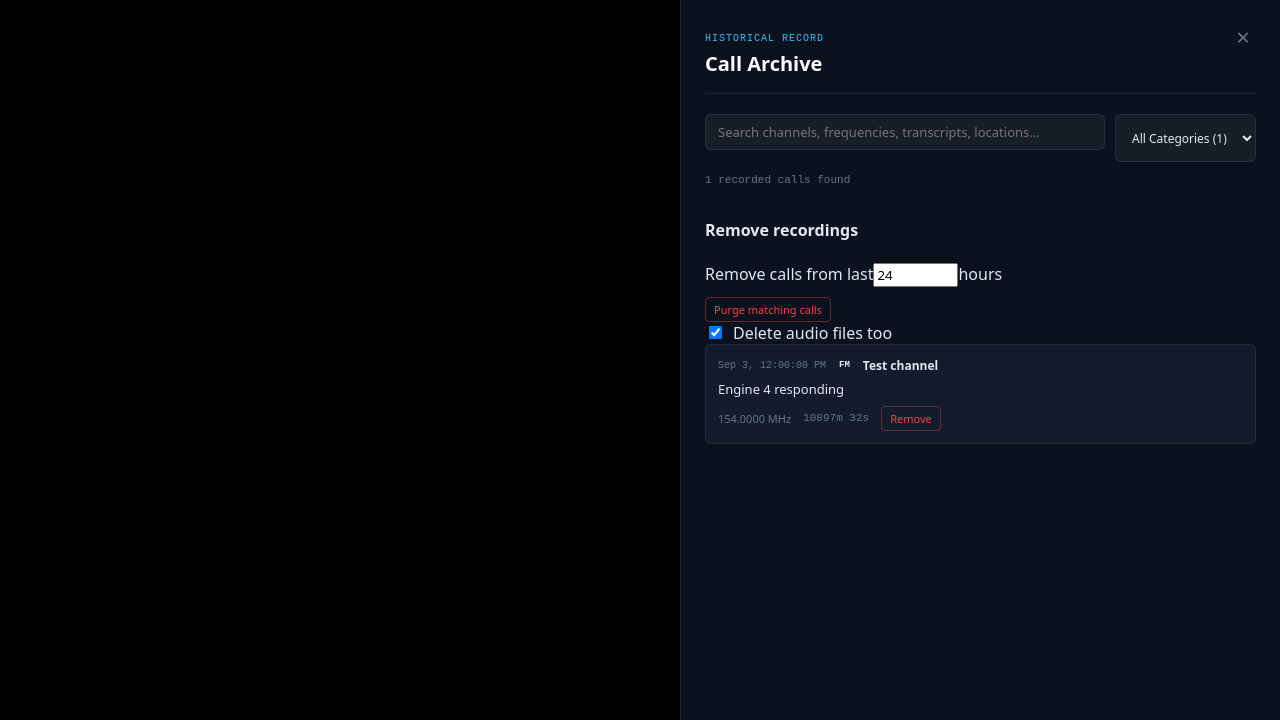
Scenario: finds recordings by MHz or Hz and trims search whitespace
The width and height of the screenshot is (1280, 720).
Type " 154.0000 " into the field named "Search recordings" at (905, 132), box [705, 114, 1105, 150]
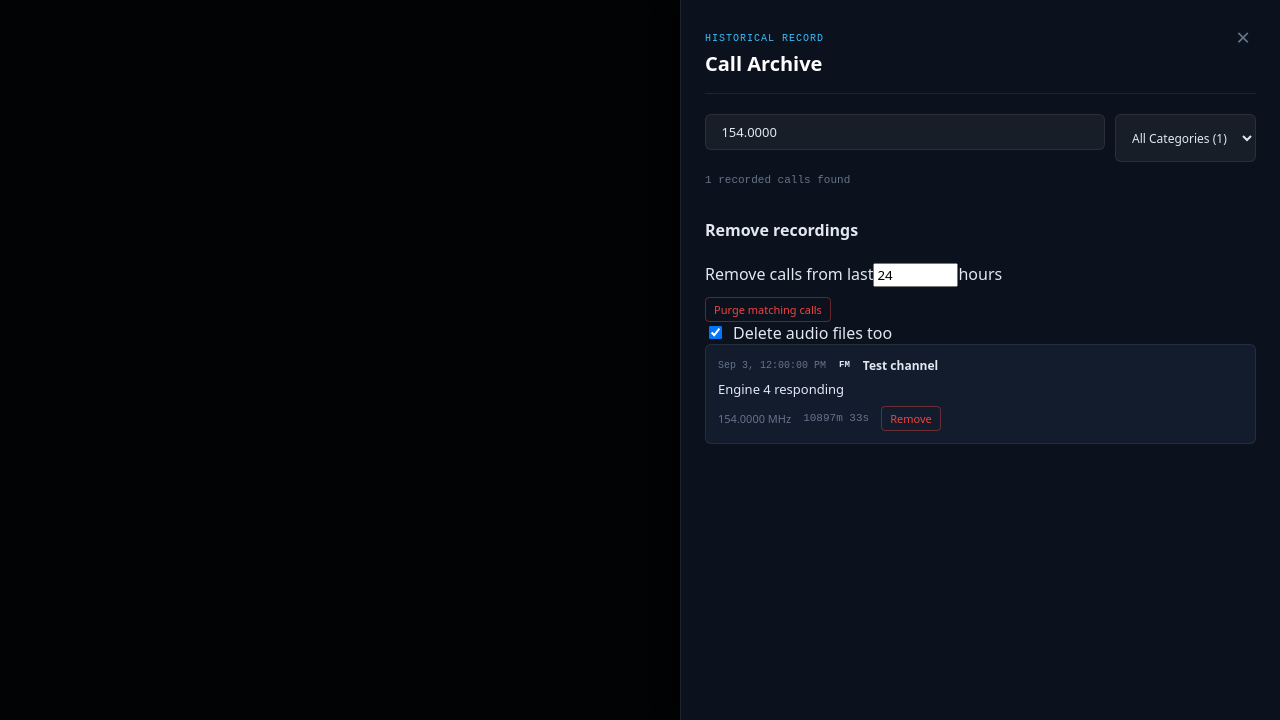
Expected: the text "Test channel" is shown, [863, 356, 938, 374]
Replace the text in the field named "Search recordings" with "154000000" at (905, 132), box [705, 114, 1105, 150]
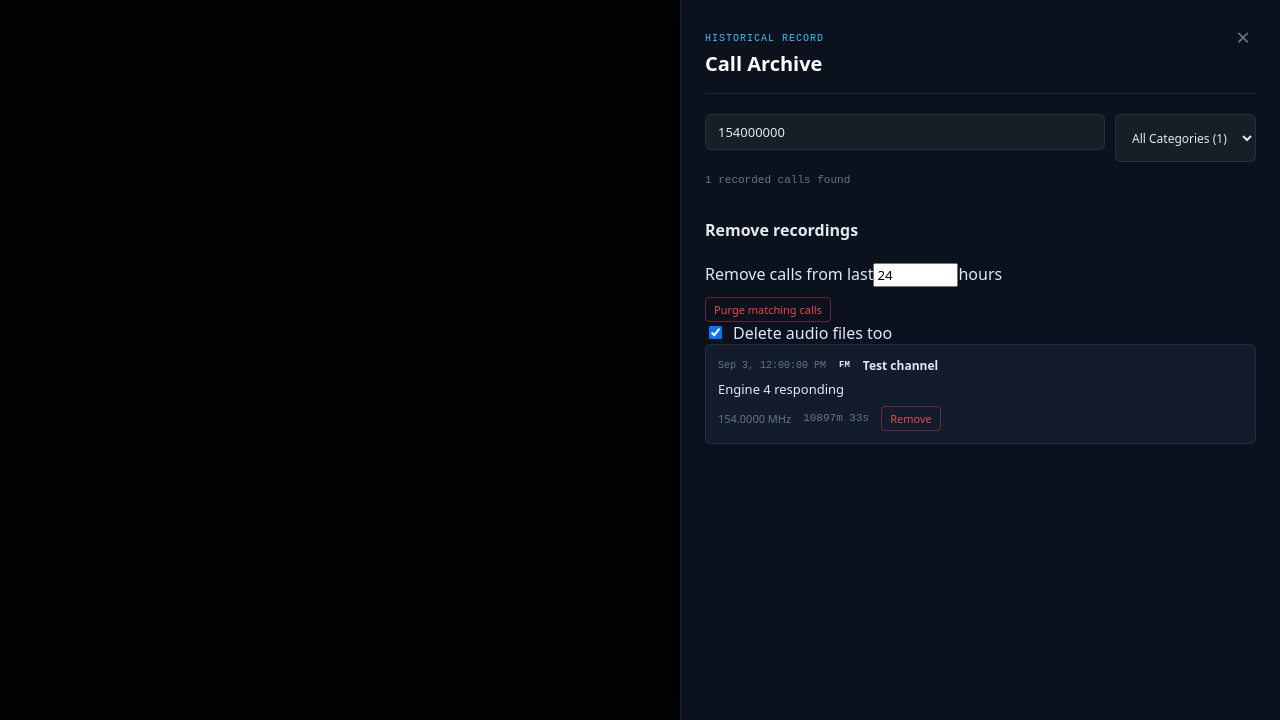
Expected: the text "Test channel" is shown, [863, 356, 938, 374]
Replace the text in the field named "Search recordings" with " test channel " at (905, 132), box [705, 114, 1105, 150]
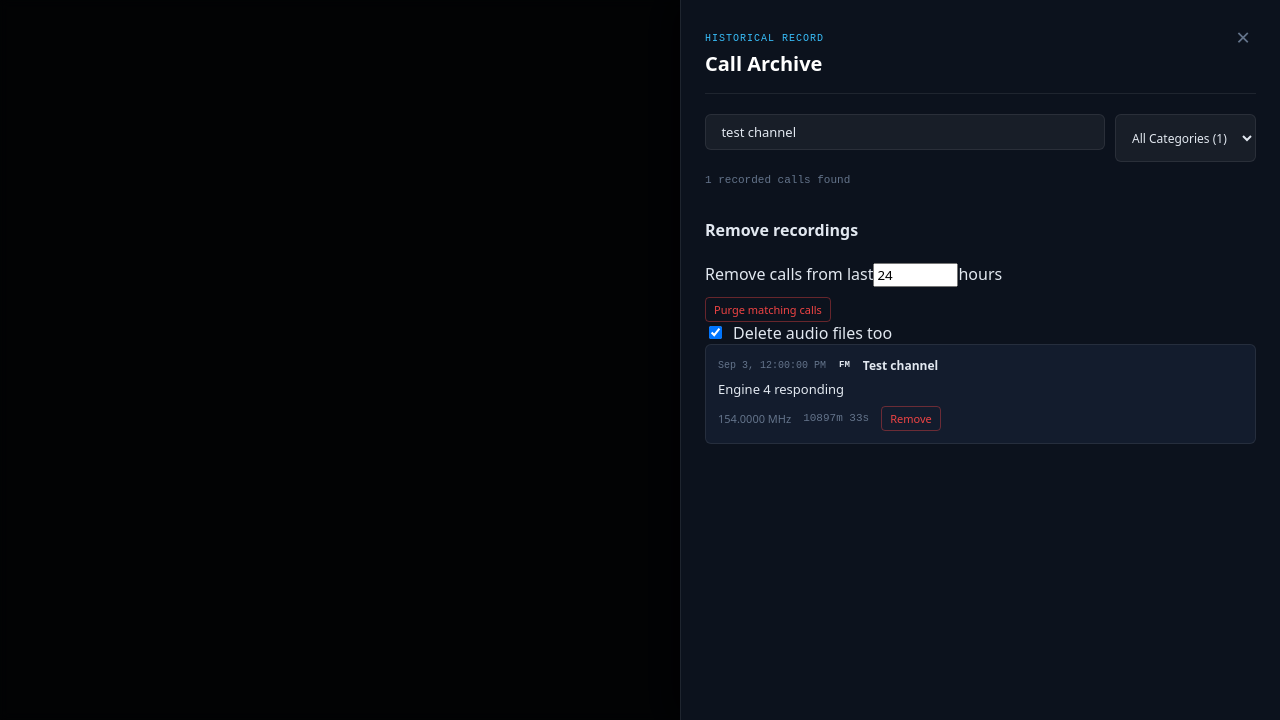
Expected: the text "Test channel" is shown, [863, 356, 938, 374]
Replace the text in the field named "Search recordings" with "155.5000" at (905, 132), box [705, 114, 1105, 150]
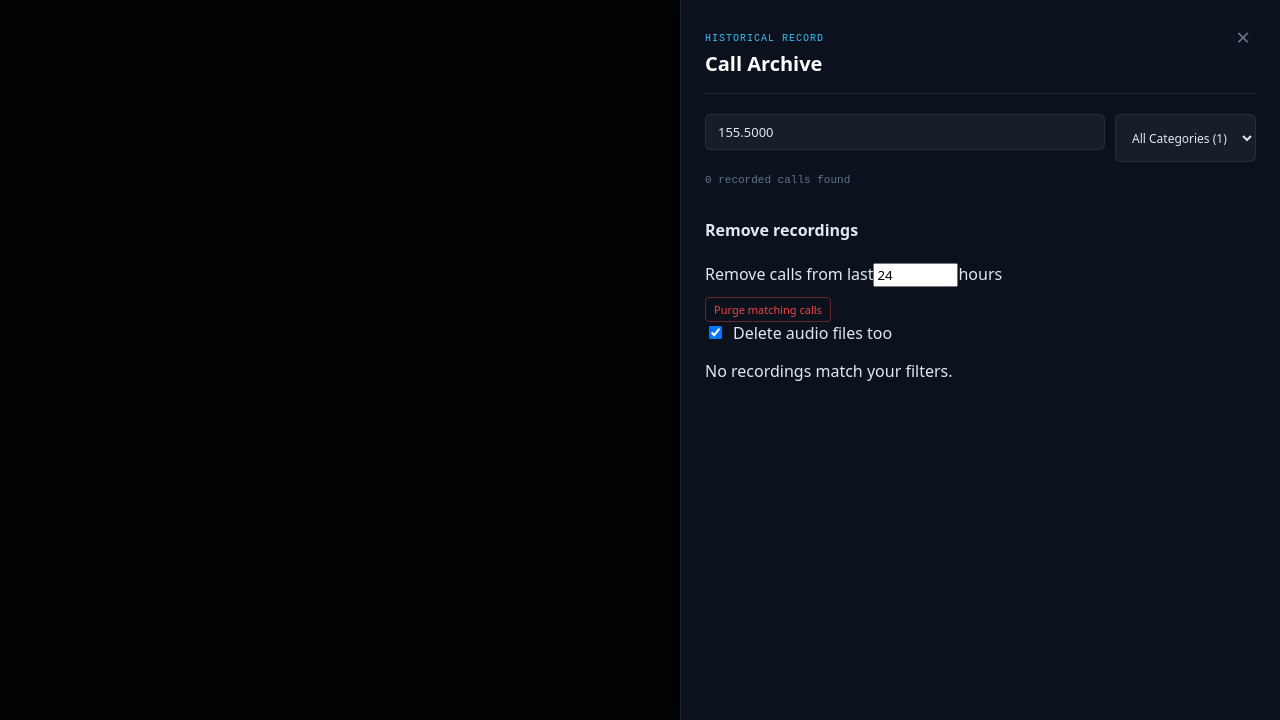
Expected: the button "Test channel" is gone
Expected: the text "No recordings match your filters." is shown, [705, 360, 952, 382]
